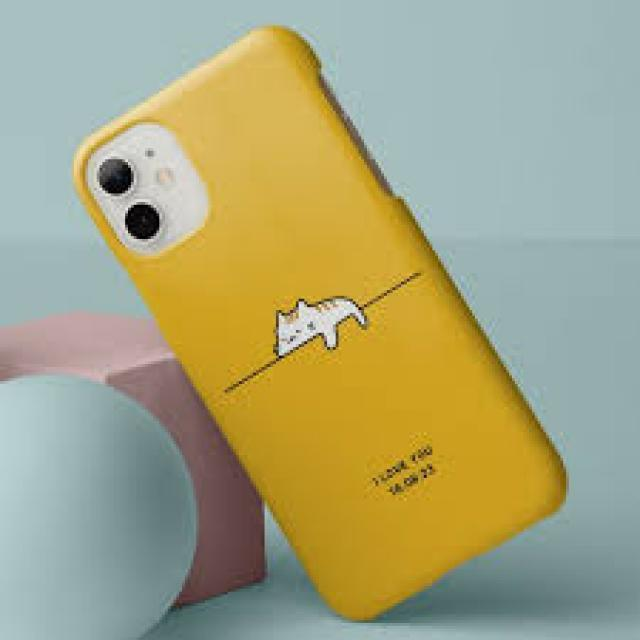Mobile: (83, 26, 565, 603)
